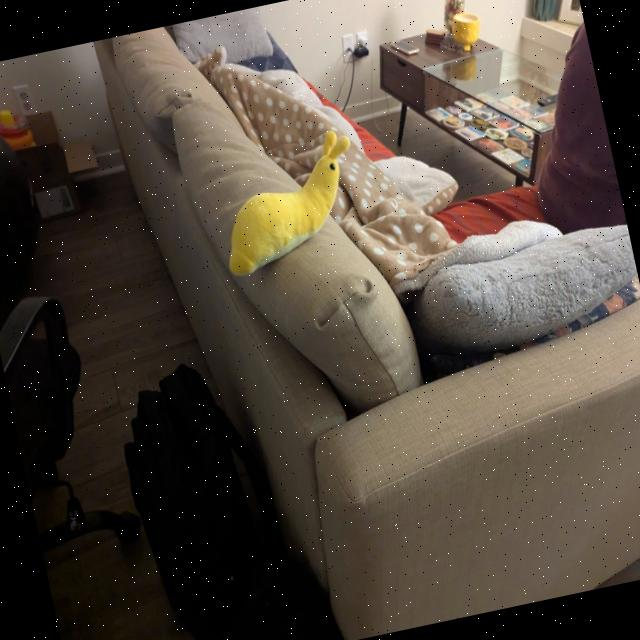banana-slug-toy: (198, 120, 378, 291)
